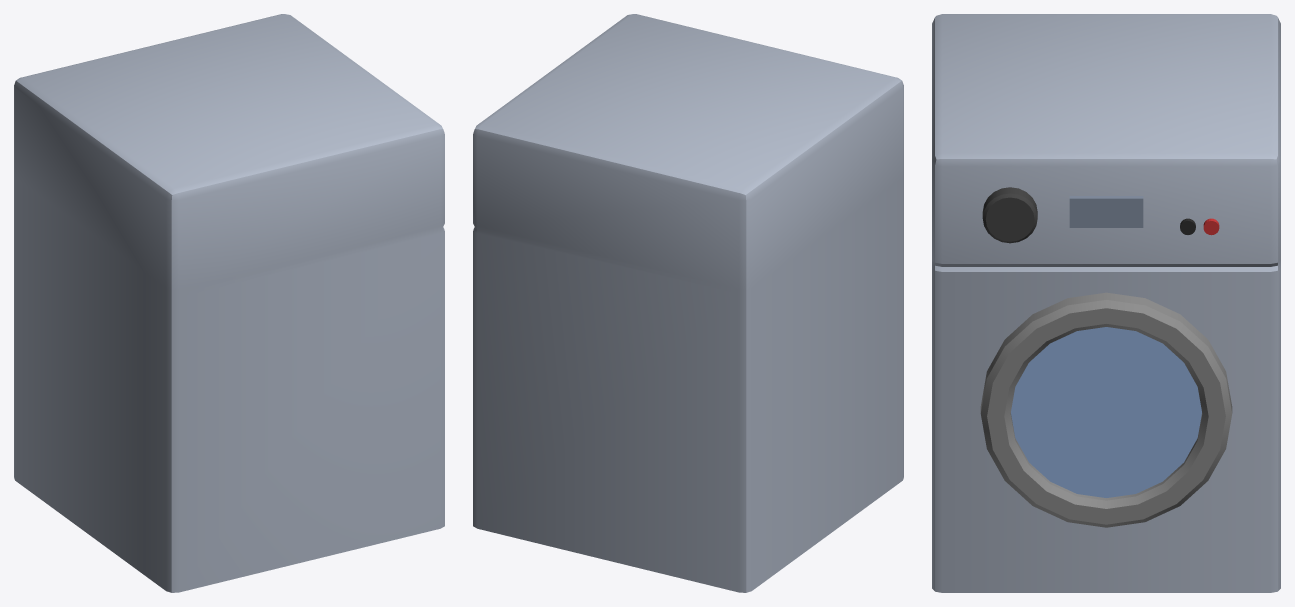
The model's file is Washer.fbx.
3 renders of one model, left to right at view 1: azimuth 30°, elevation 25°; view 2: azimuth 150°, elevation 25°; view 3: azimuth 270°, elevation 25°, orthographic. The views are drawn at different scales.
Parts seen in each view (by area): view 1: Washer; view 2: Washer; view 3: Washer.
Boxes of the visible parts, bbox=[...] form: Washer: bbox=[14, 14, 444, 592]; Washer: bbox=[473, 14, 903, 592]; Washer: bbox=[932, 14, 1280, 592].
Bounding box in the file's own units: 153 × 197 × 143.
